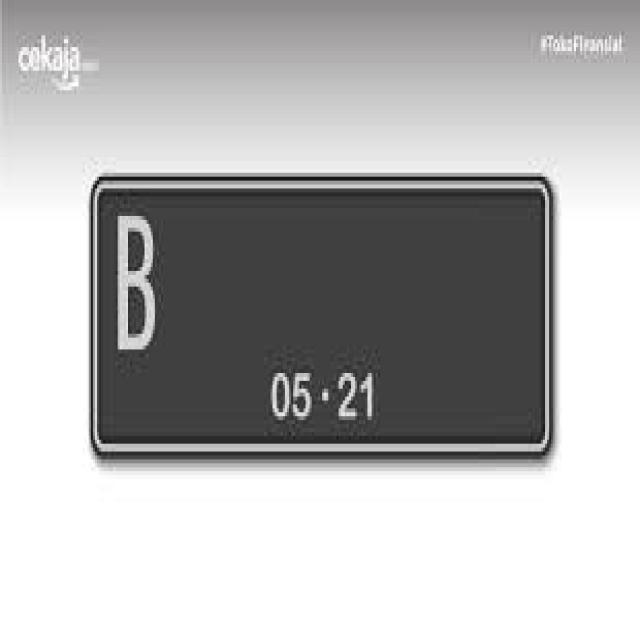lisence-plate: (69, 156, 566, 489)
